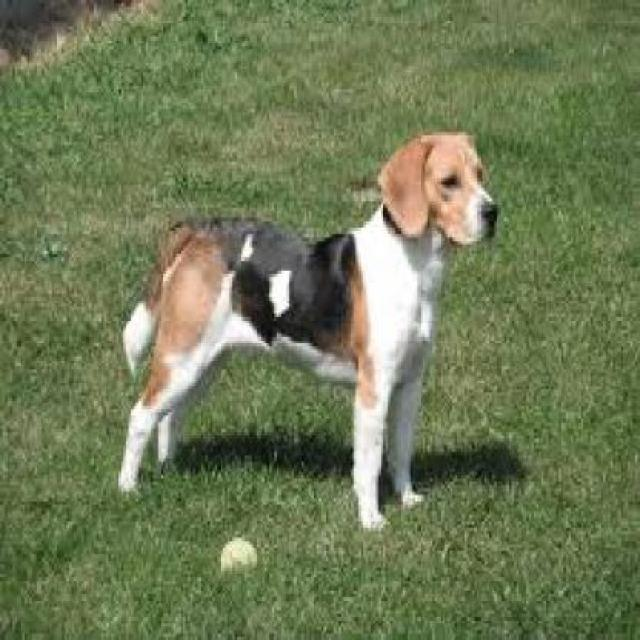Dog: (121, 132, 502, 540)
